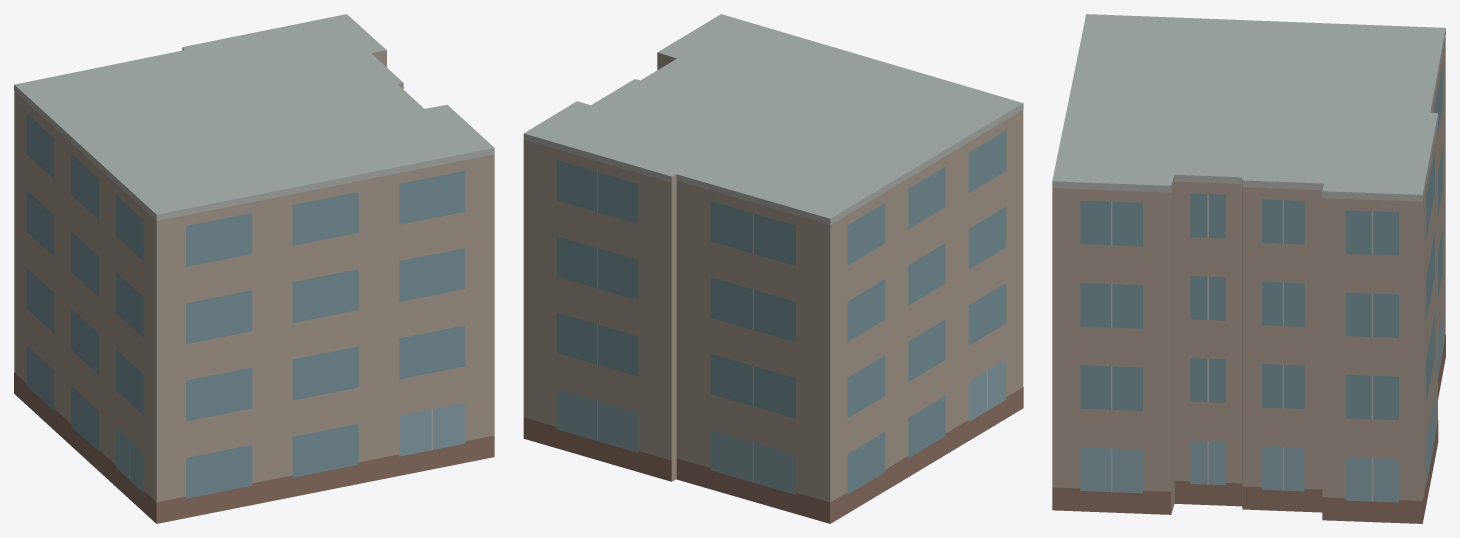
Rendered from survey-upis-32764978.glb.
The picture shows the model from 3 angles, left to right: view 1: azimuth 30°, elevation 25°; view 2: azimuth 150°, elevation 25°; view 3: azimuth 270°, elevation 25°; orthographic projection. The views are drawn at different scales.
Parts seen in each view (by area): view 1: survey-upis-32764978.tmp; view 2: survey-upis-32764978.tmp; view 3: survey-upis-32764978.tmp.
Boxes of the visible parts, x1,y1,x2,y2 form: survey-upis-32764978.tmp: [14, 14, 494, 523]; survey-upis-32764978.tmp: [523, 14, 1023, 523]; survey-upis-32764978.tmp: [1052, 14, 1445, 523].
Bounding box in the file's own units: 13.96 × 11.83 × 12.84.
